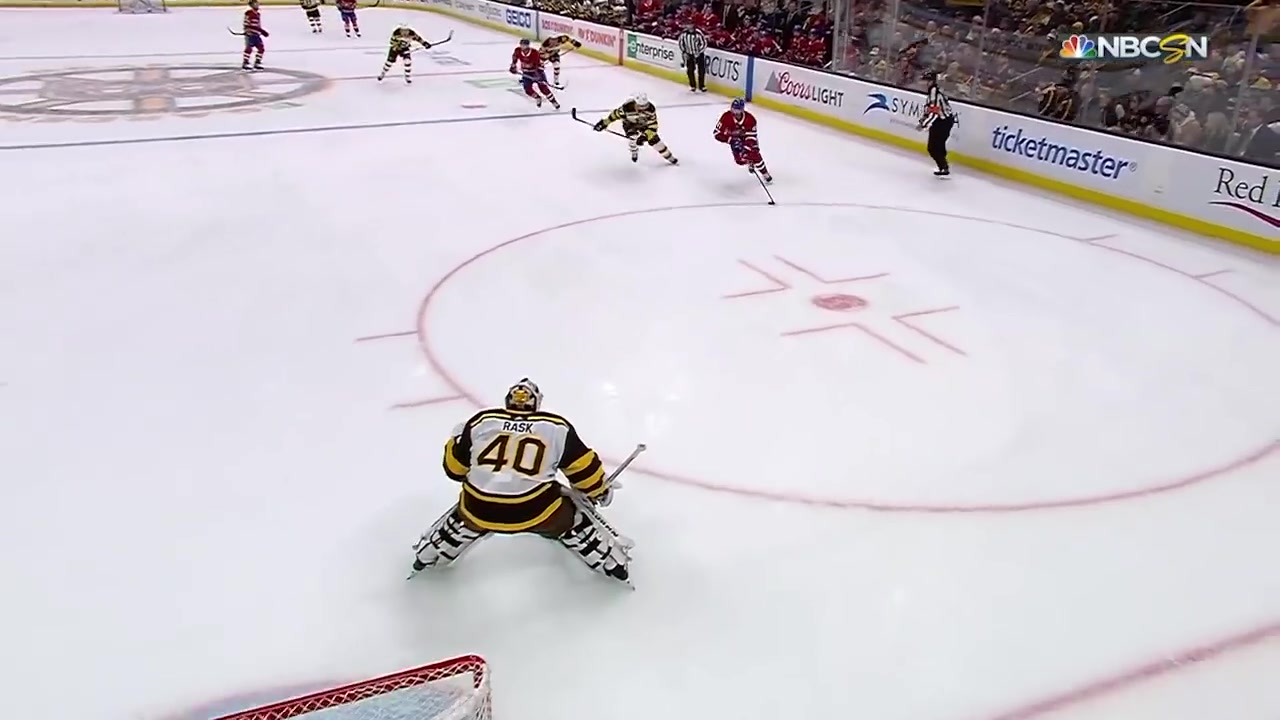geico: (502, 4, 535, 35)
